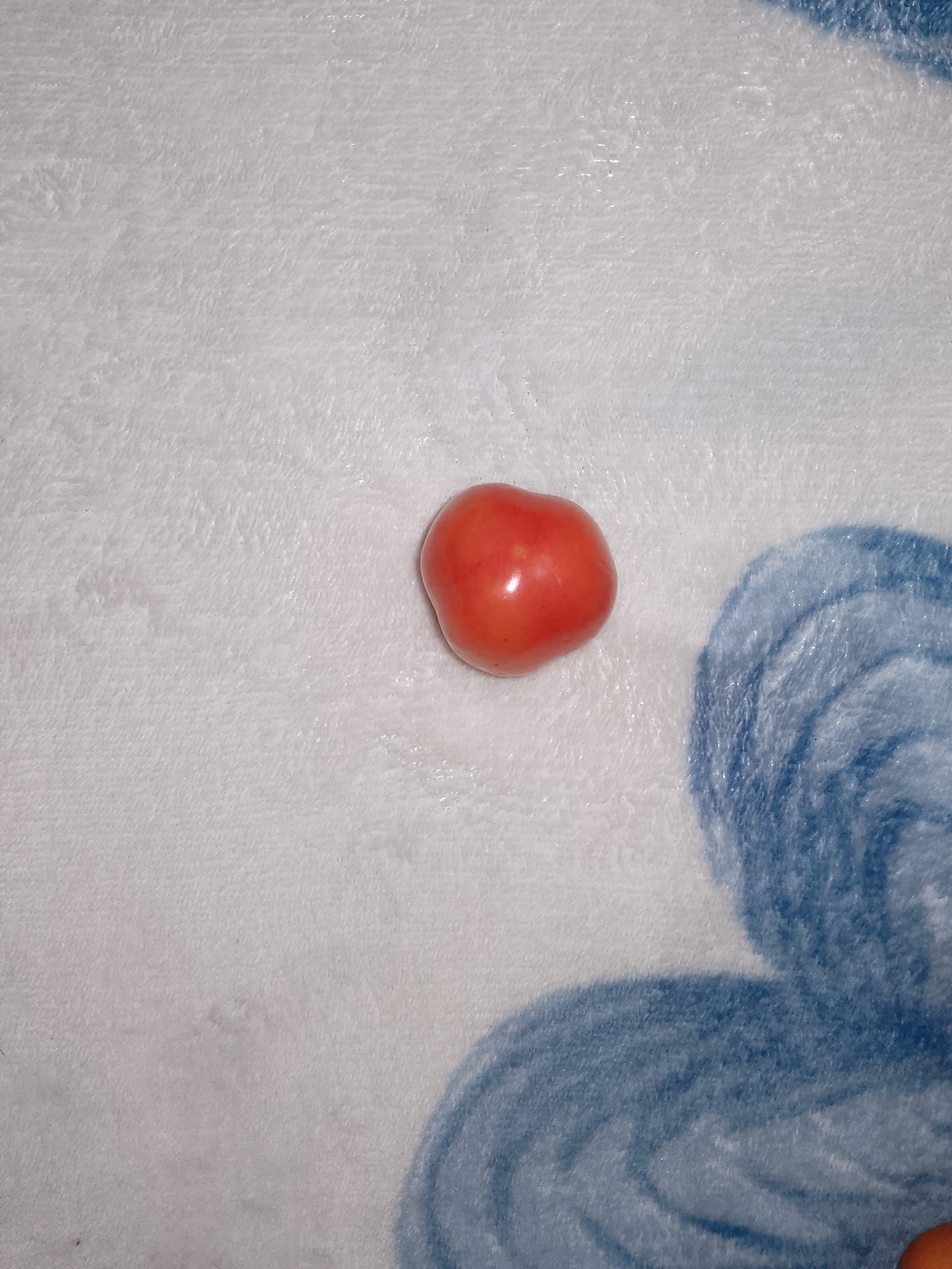Ripe: (358, 431, 677, 727)
